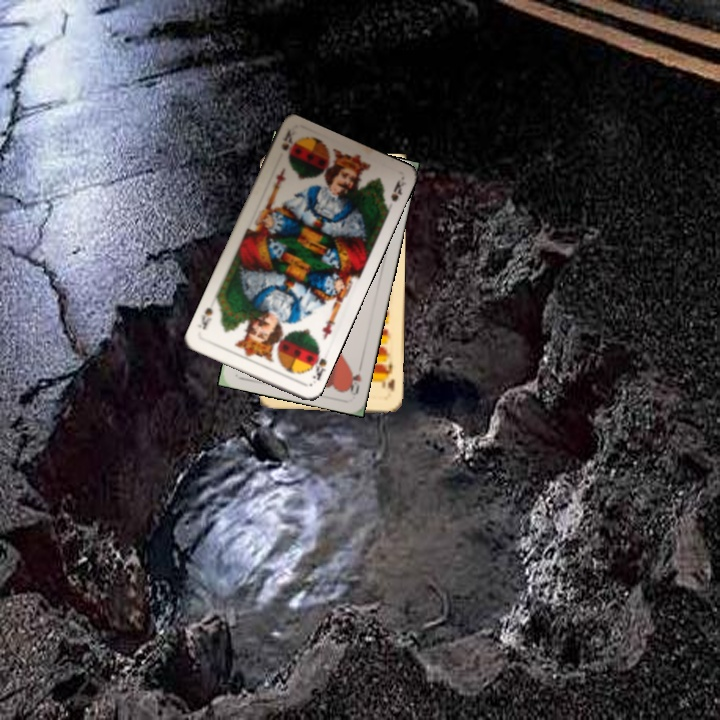E10: (379, 357, 397, 395)
HO: (344, 366, 364, 398)
SK: (305, 348, 329, 383), (277, 127, 297, 153)
